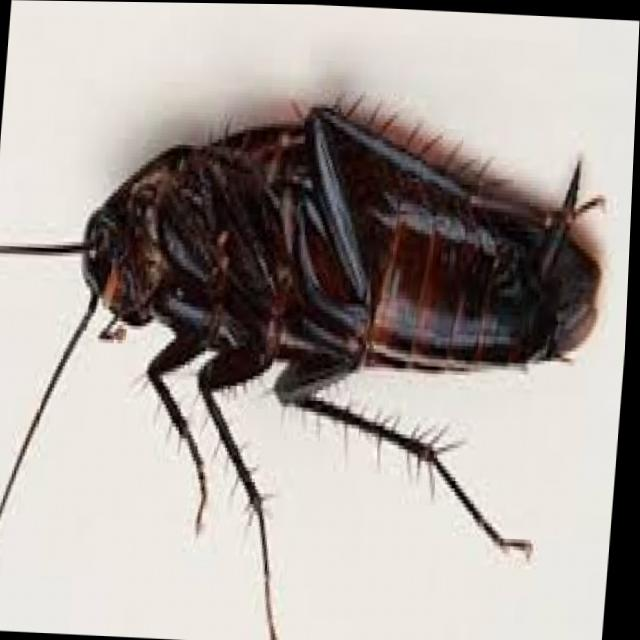Cockroach: (0, 54, 638, 559)
